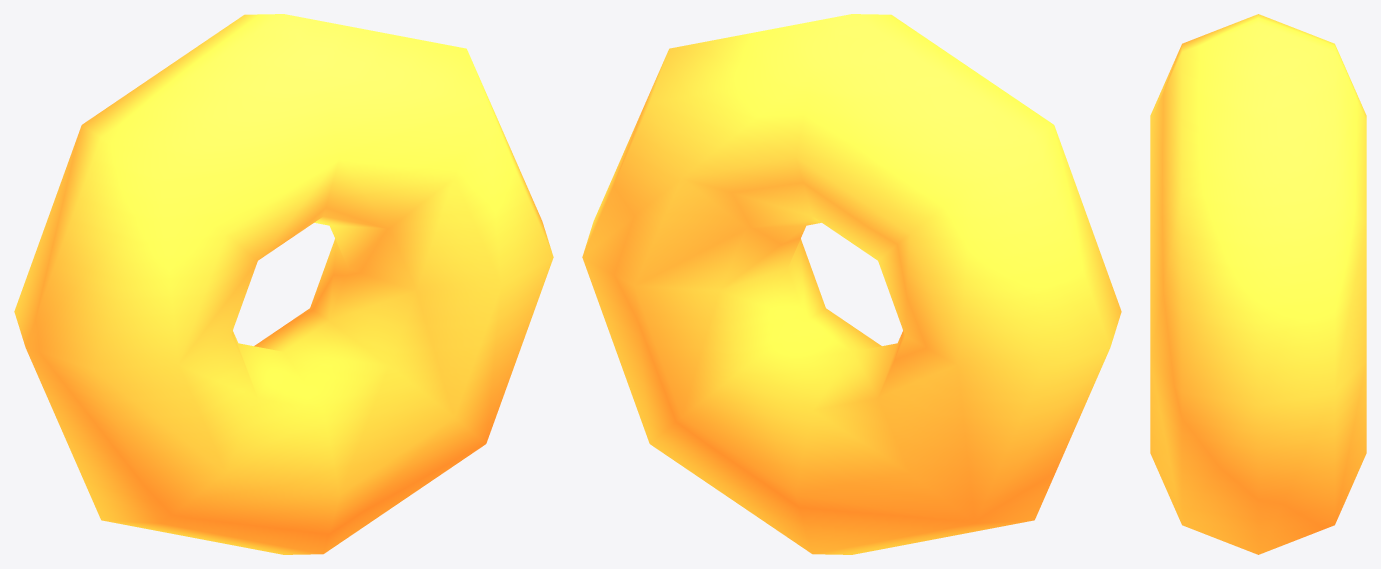
File: gold_pommel.glb
3 renders of one model, left to right at view 1: azimuth 30°, elevation 25°; view 2: azimuth 150°, elevation 25°; view 3: azimuth 270°, elevation 25°, orthographic. The views are drawn at different scales.
Parts seen in each view (by area): view 1: gold_pommel; view 2: gold_pommel; view 3: gold_pommel.
Boxes of the visible parts, x1,y1,x2,y2 form: gold_pommel: [14, 14, 553, 554]; gold_pommel: [582, 14, 1121, 554]; gold_pommel: [1150, 14, 1366, 554].
Size of the model in its own units: 2.31 by 2.31 by 0.8663.
Materials: 1 (1 with a texture image).
